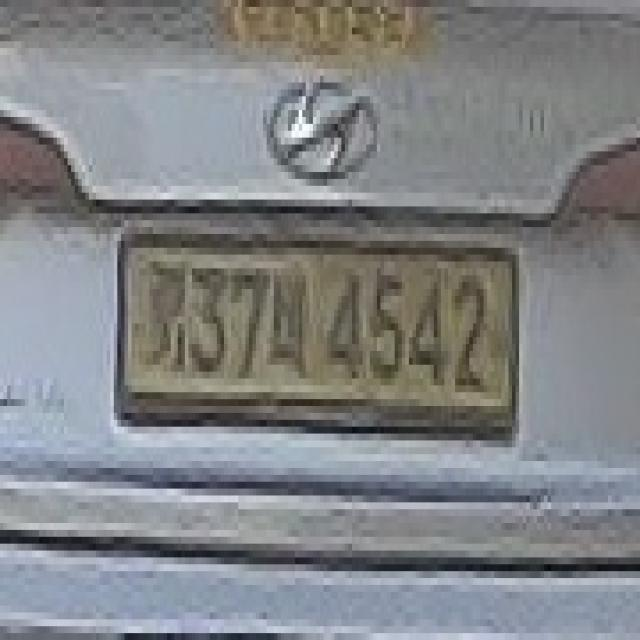plat: (115, 229, 521, 437)
